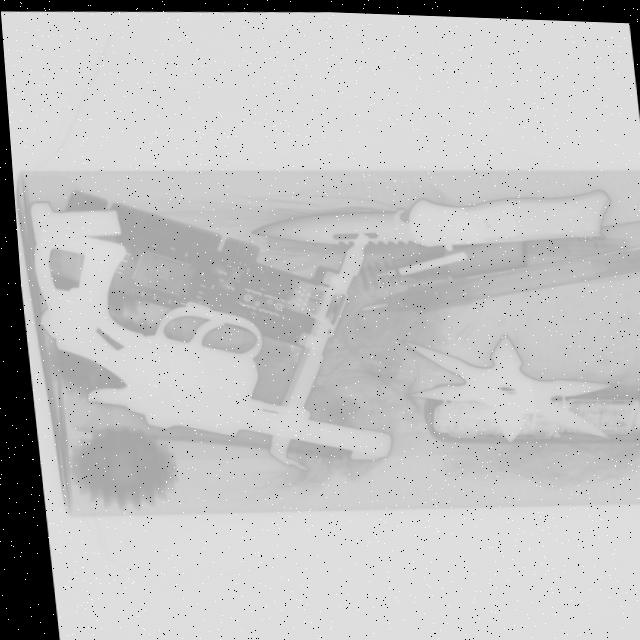knife: (240, 169, 613, 261)
pistol: (22, 215, 387, 471)
